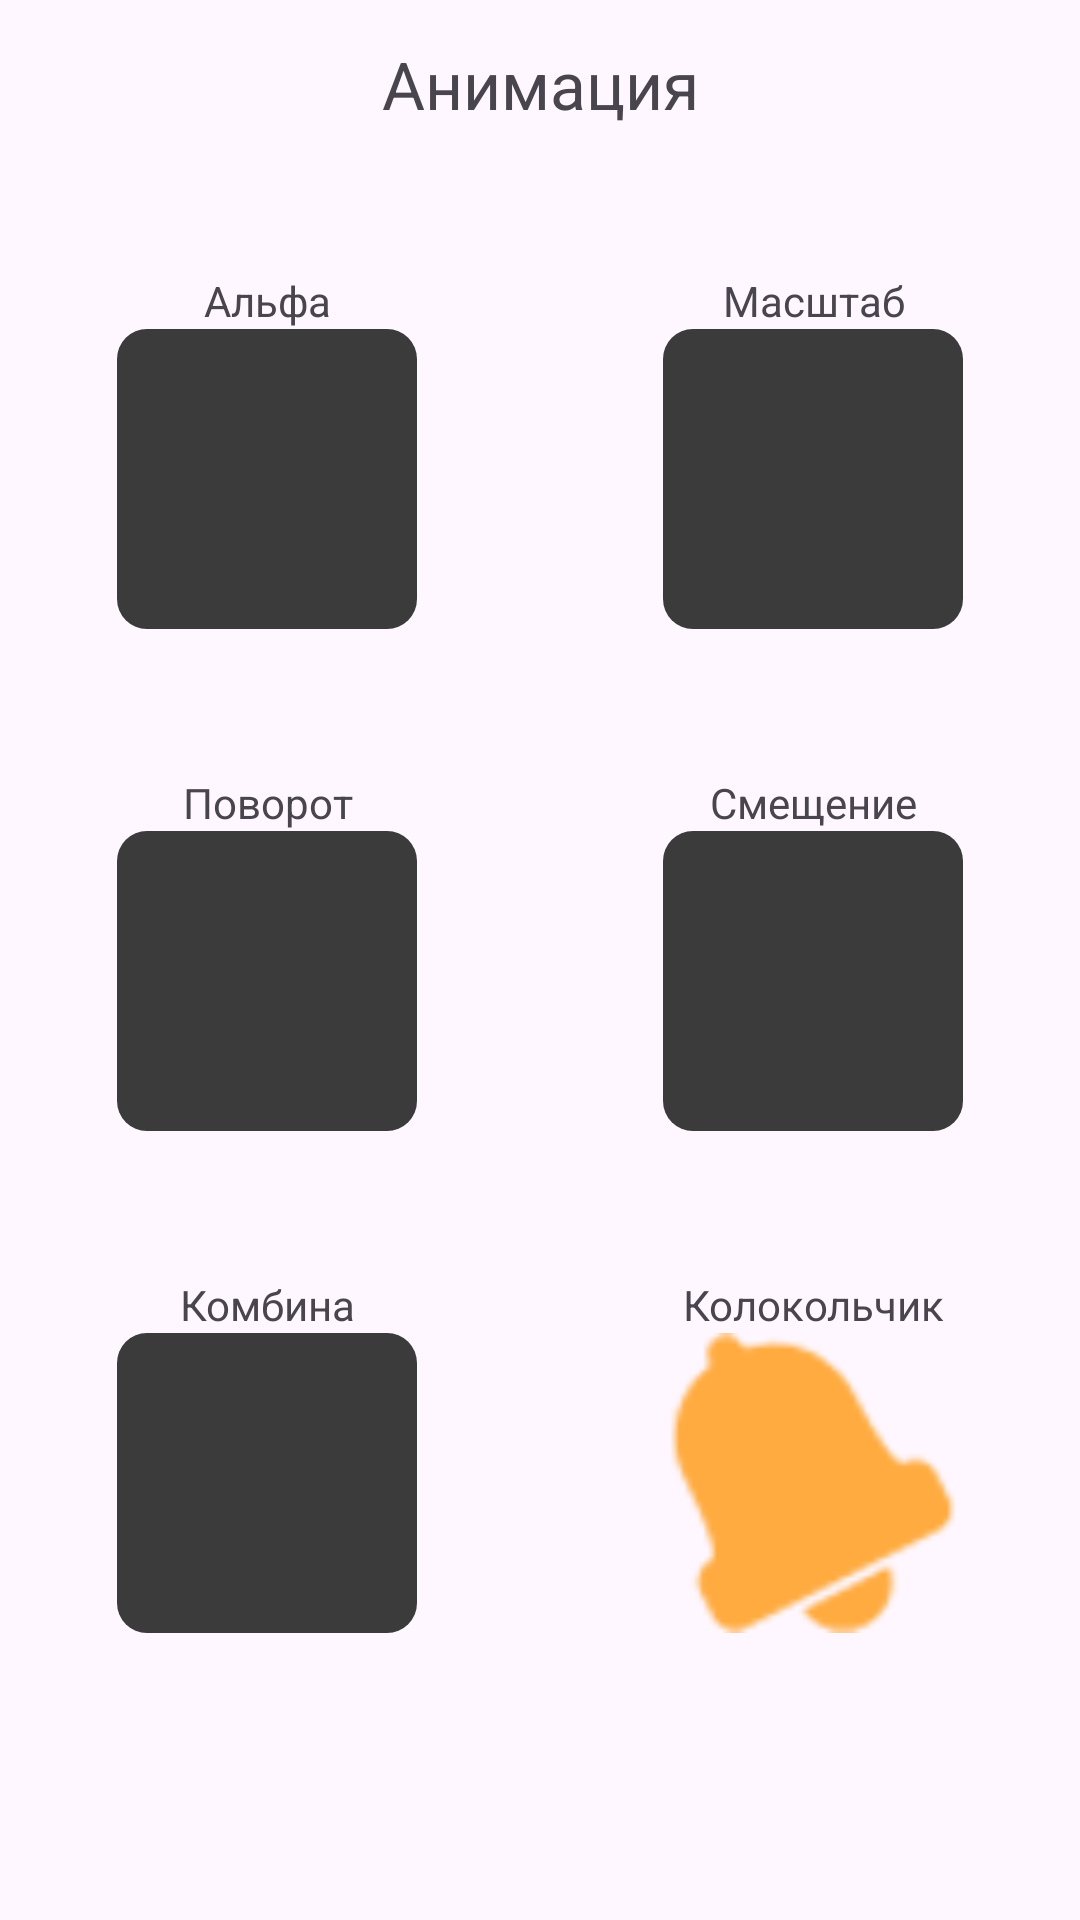

Named icons in this screenshot (1080px×1920px) and their bounding boxes, bbox(x1, y1, x2, y2):
popup reminder: bbox(671, 1333, 954, 1633)
